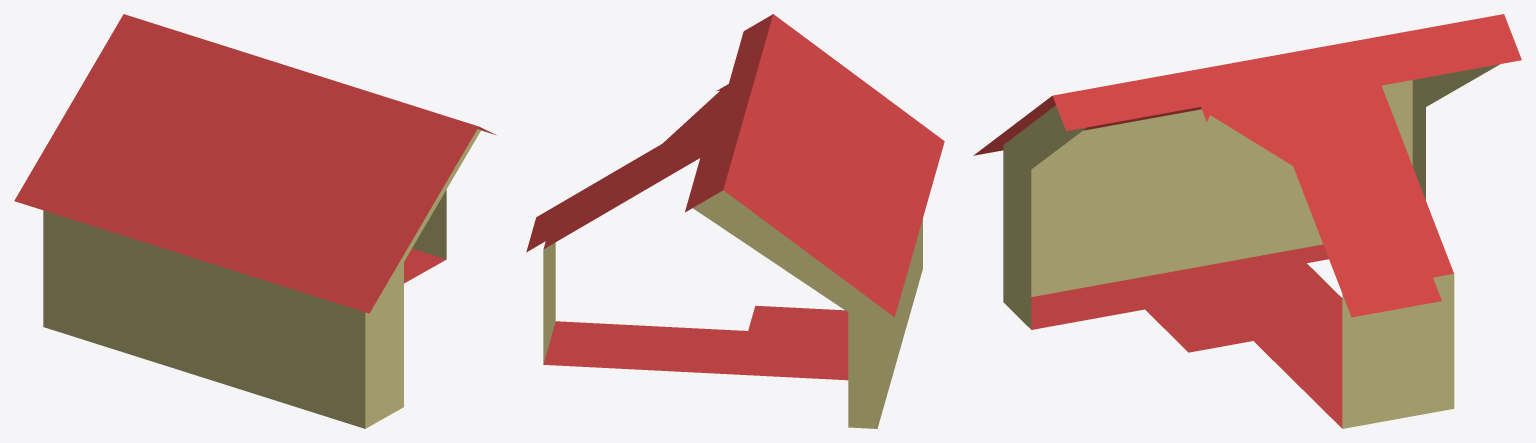
3 views of the same model, side by side, from view 1: azimuth 30°, elevation 25°; view 2: azimuth 150°, elevation 25°; view 3: azimuth 270°, elevation 25° (orthographic). The views are drawn at different scales.
Size of the model in its own units: 22.83 by 23.8 by 13.4.
